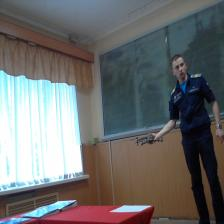drone: (128, 127, 171, 147)
